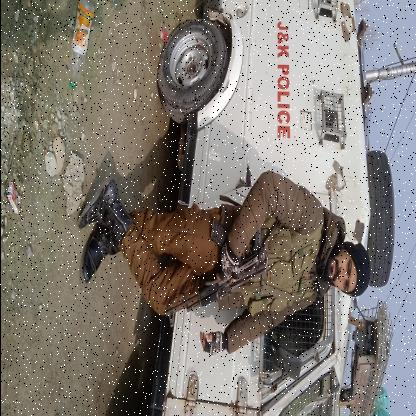rifle: (160, 216, 268, 330)
